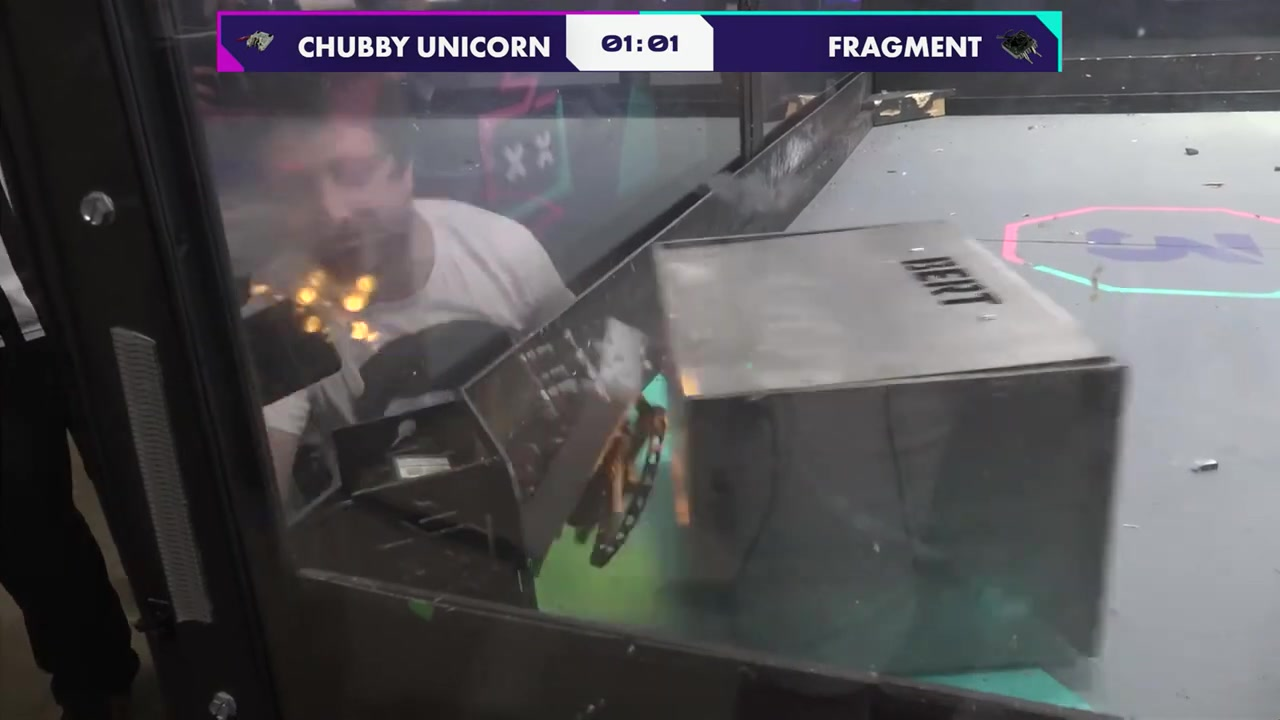housebot: (652, 217, 1127, 673)
